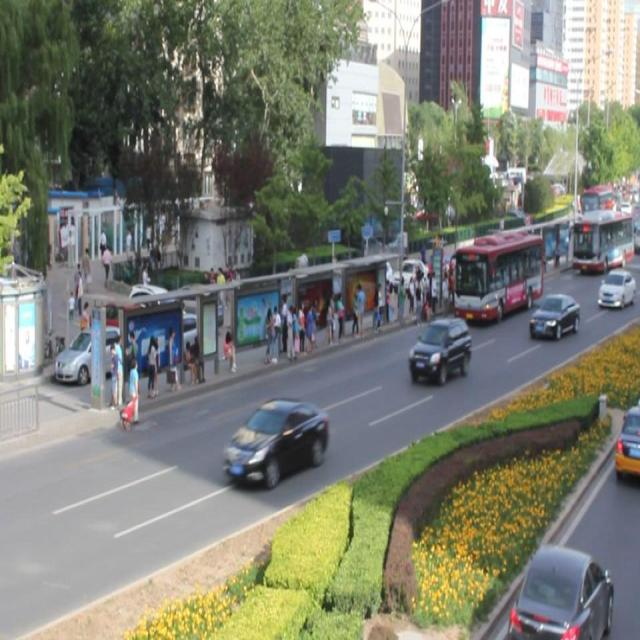car: (223, 395, 328, 487), (407, 315, 470, 384), (528, 293, 577, 341), (596, 269, 640, 309)
van: (447, 232, 538, 326)
